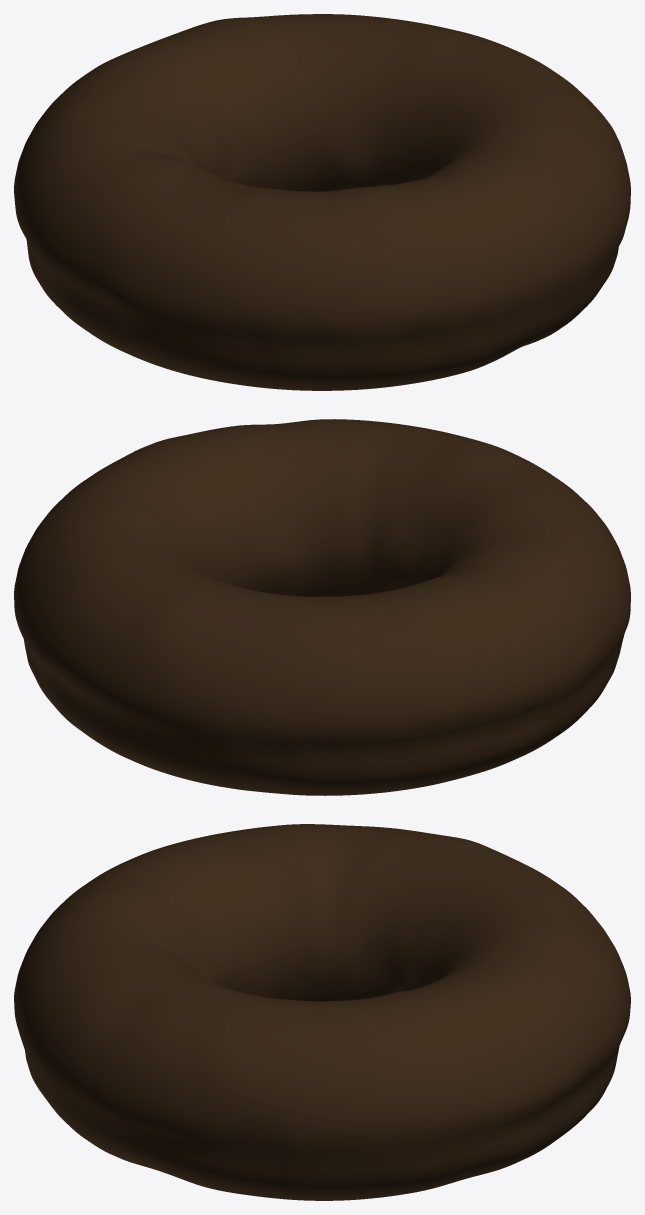
Rendered from Donut 2.obj.
The picture shows the model from 3 angles, top to bottom: view 1: azimuth 30°, elevation 25°; view 2: azimuth 150°, elevation 25°; view 3: azimuth 270°, elevation 25°; orthographic projection.
Visible parts, largest first — view 1: Donut_Torus.002; view 2: Donut_Torus.002; view 3: Donut_Torus.002.
Part boxes in pixels (box(x1,y1,x2,y2)): Donut_Torus.002: box(14, 14, 630, 390); Donut_Torus.002: box(14, 419, 630, 795); Donut_Torus.002: box(14, 824, 630, 1200).
Bounding box in the file's own units: 0.1461 × 0.0488 × 0.1462.
